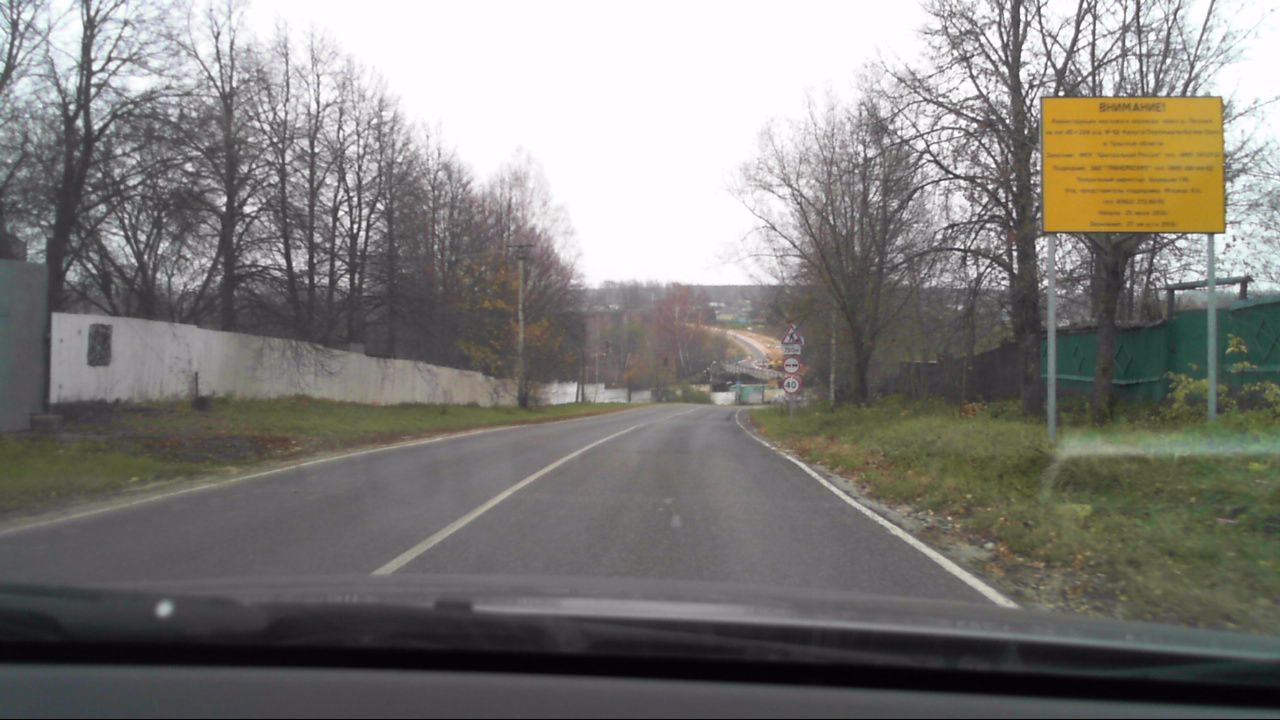speed_warning_40: (781, 375, 798, 393)
